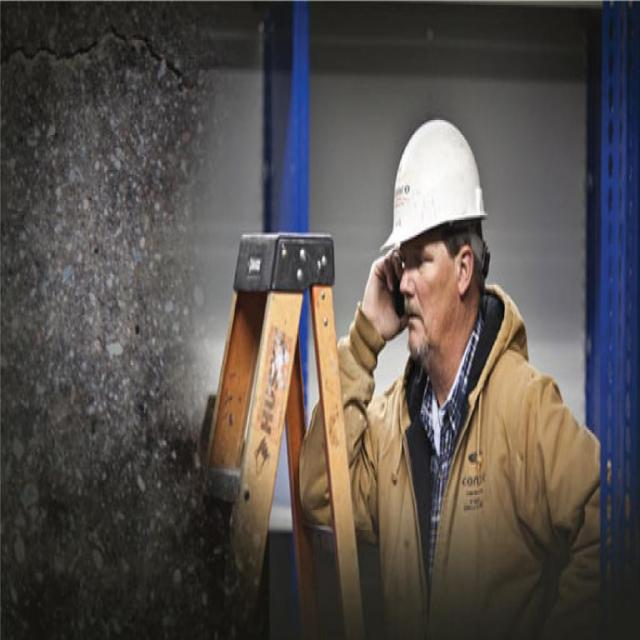nomask: (403, 197, 462, 355)
